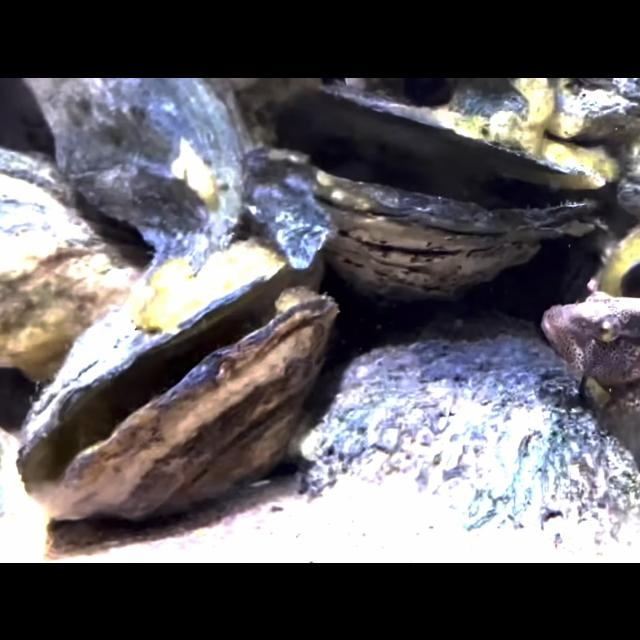Oyster-Closed: (24, 77, 248, 243), (0, 169, 140, 381)
Oyster-Open: (12, 237, 342, 521), (232, 77, 610, 297)
